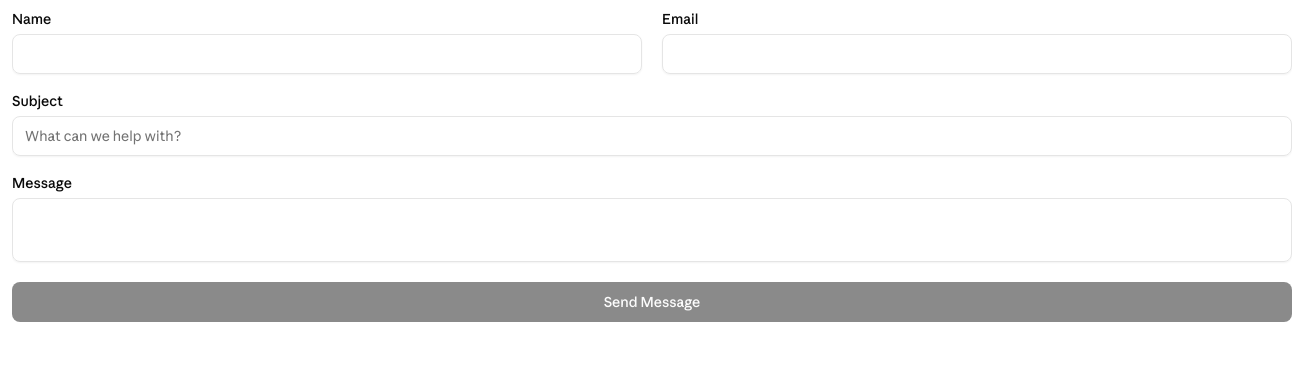
Test: ContactForm › renders generic error copy on a 500 with no body
The width and height of the screenshot is (1304, 379).
In the field labelled "Name": (327, 54) [12, 34, 642, 74], type "Ada"
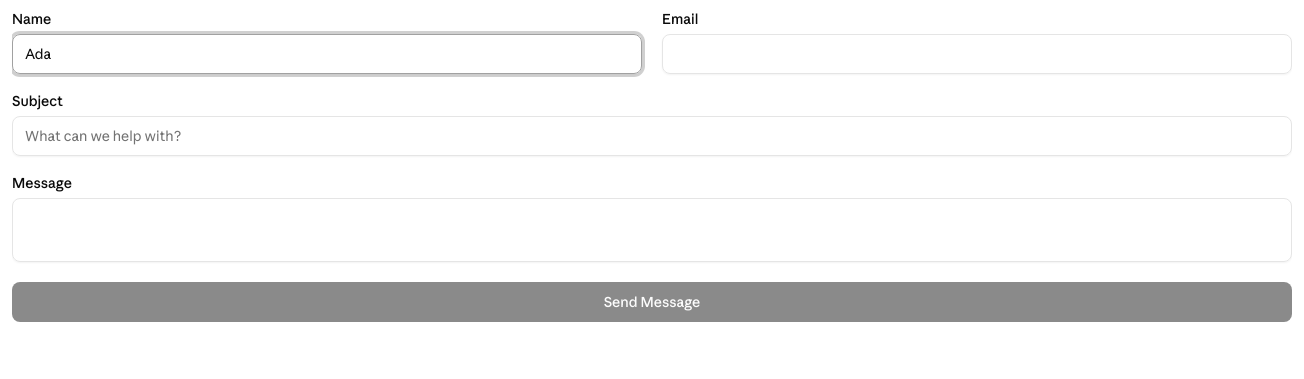
In the field labelled "Email": (977, 54) [662, 34, 1292, 74], type "ada@example.com"
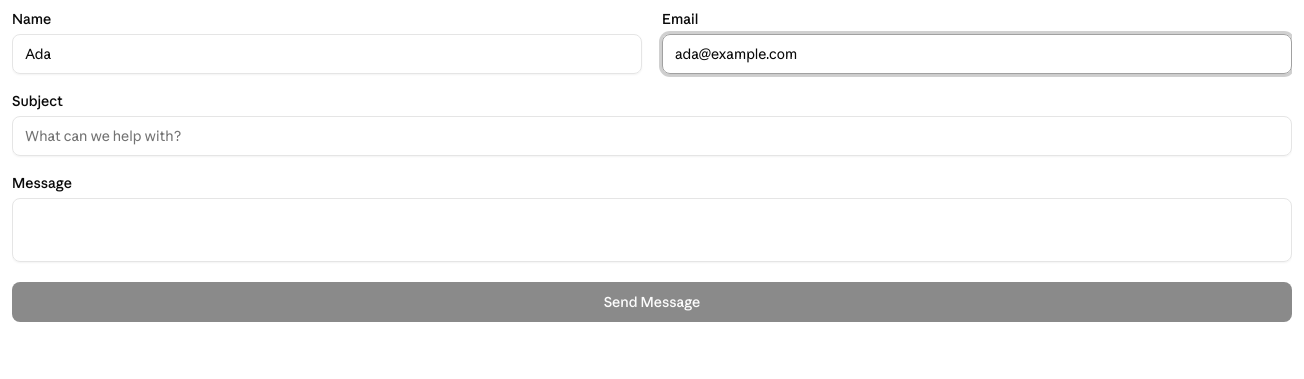
In the field labelled "Subject": (652, 136) [12, 116, 1292, 156], type "Tech"
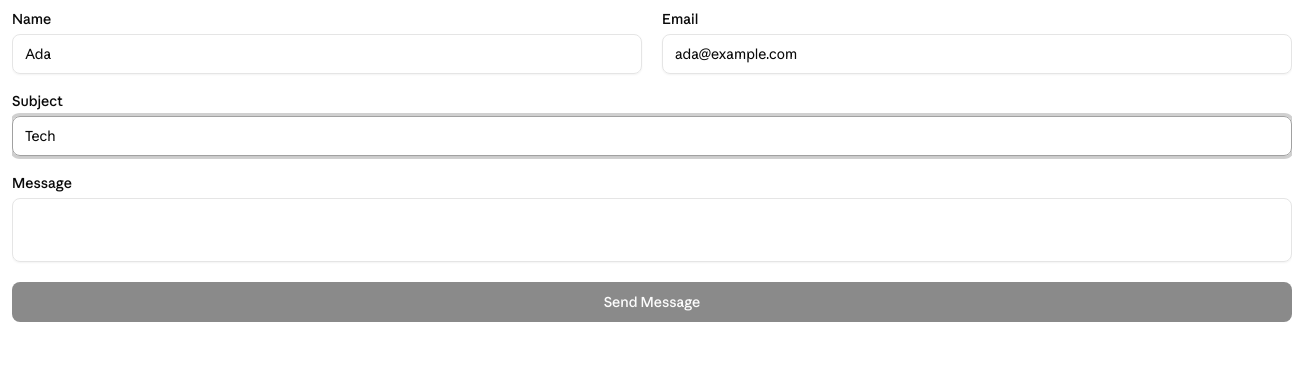
In the text box labelled "Message": (652, 230) [12, 198, 1292, 262], type "Help"
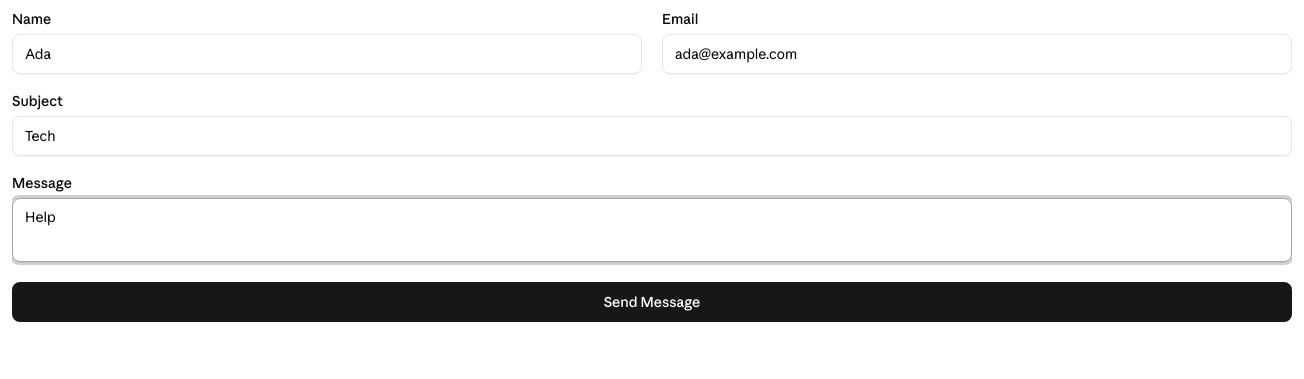
Click the button "Send Message": (652, 302) [12, 282, 1292, 322]
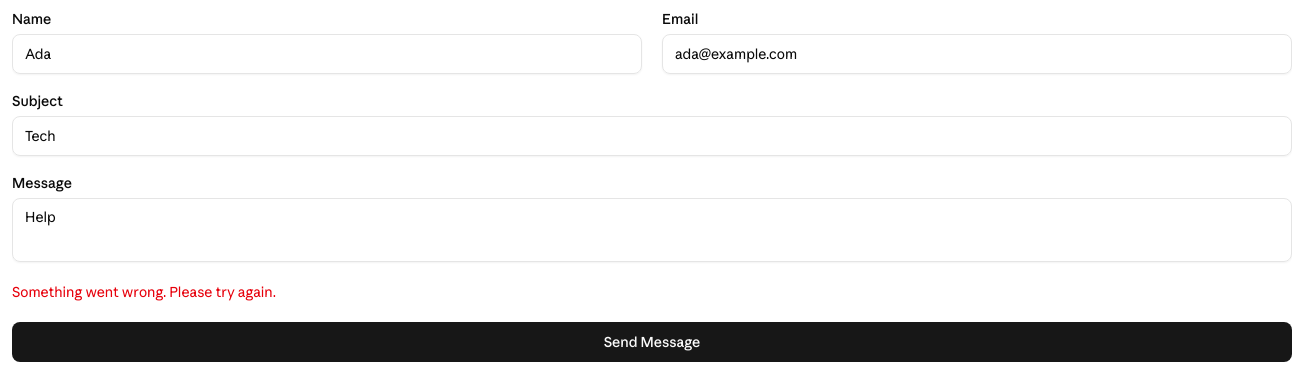
Expected: the text "Something went wrong. Please try again." is shown, [12, 283, 276, 301]
